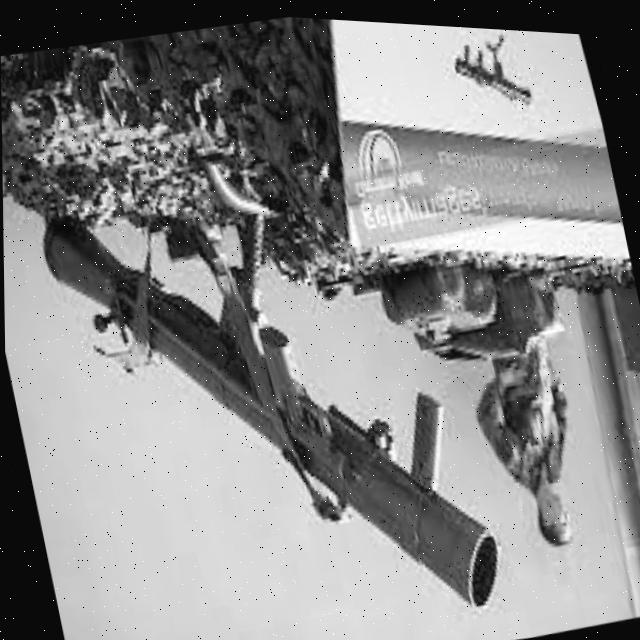rocket: (32, 130, 512, 640)
